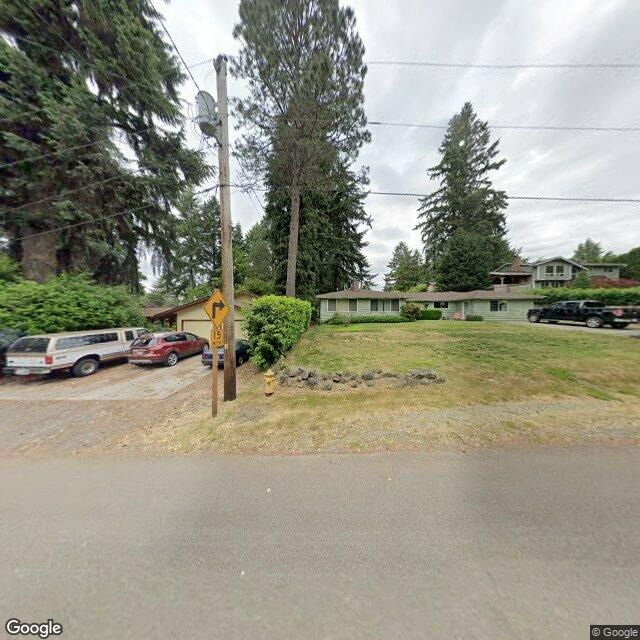hydrant: (255, 362, 280, 399)
